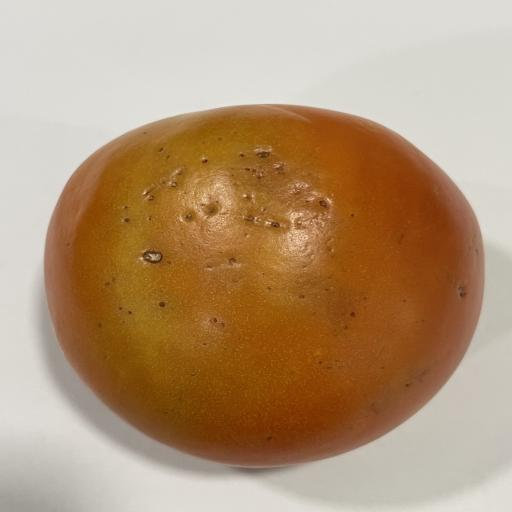unripe: (45, 105, 484, 467)
